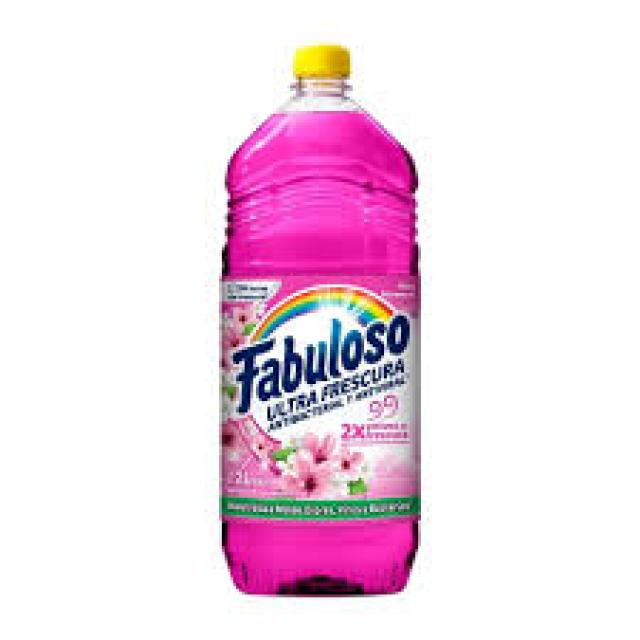Botella: (210, 24, 432, 600)
